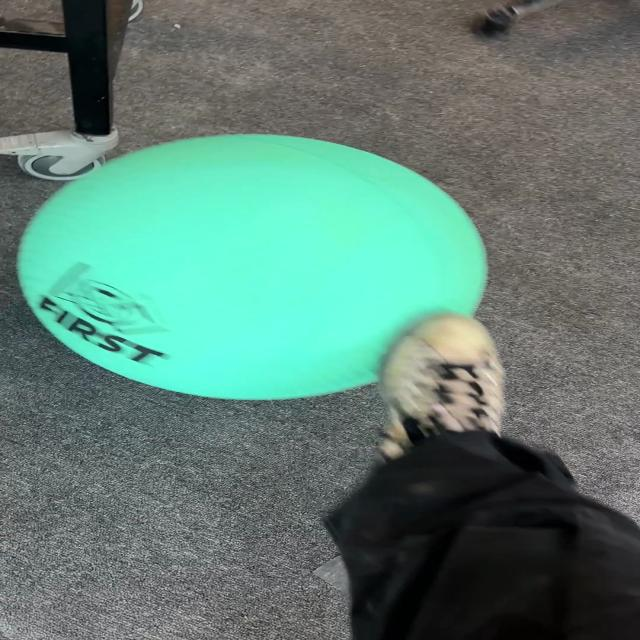Algae: (14, 132, 490, 401)
